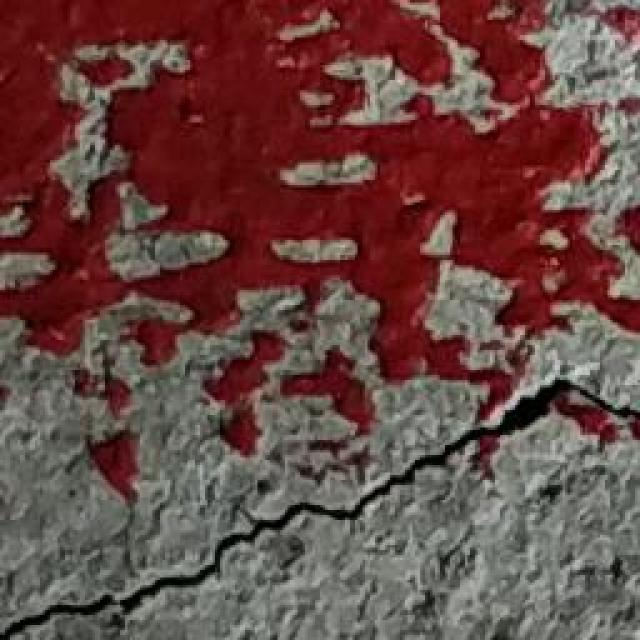Diagonal: (0, 348, 640, 640)
Rippled: (0, 0, 640, 345)
